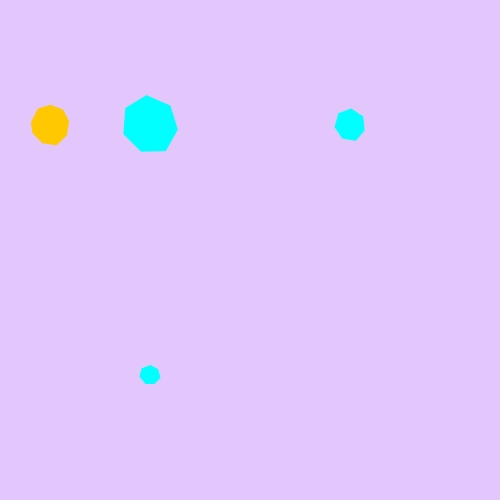heptagon: (118, 95, 182, 156), (330, 106, 370, 144), (136, 361, 165, 389)
nonagon: (26, 102, 74, 148)
